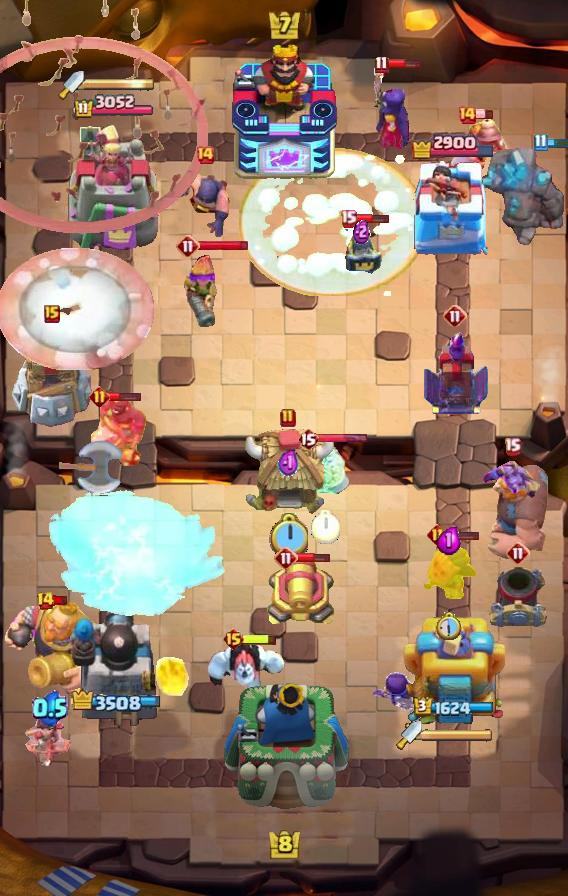axe: (367, 63, 413, 151)
balloon: (483, 460, 551, 562)
bandit: (449, 112, 513, 178)
bar: (67, 122, 161, 256), (401, 611, 505, 731)
bomb-tower: (181, 251, 223, 331)
cannoneer-tower: (478, 147, 568, 249)
electro-spirit: (32, 690, 68, 726), (437, 525, 461, 555), (277, 448, 298, 479), (353, 218, 371, 244)
elixir: (268, 513, 307, 558), (312, 510, 341, 544), (436, 611, 463, 641)
elixir-collector: (297, 442, 353, 502)
emote: (198, 240, 249, 253), (316, 432, 368, 443), (242, 634, 278, 647), (296, 552, 332, 564), (387, 58, 422, 70), (444, 529, 479, 541), (354, 213, 390, 224), (106, 390, 142, 401), (546, 137, 568, 149), (475, 108, 494, 119), (51, 595, 69, 606)
freeze: (82, 395, 148, 471)
giant-skeleton: (0, 598, 112, 702)
goblin-ball: (370, 669, 430, 725)
goblin-barrel: (420, 532, 478, 602)
ice-spirit-evolution-symbol: (421, 330, 489, 416)
king-tower: (219, 678, 349, 826), (230, 41, 338, 181)
king-tower-bar: (84, 77, 156, 91), (422, 728, 494, 742)
mega-knight: (44, 487, 228, 623)
monk: (179, 170, 231, 242)
musketeer: (487, 563, 549, 631)
phoenix-big: (239, 148, 427, 296)
prince: (241, 427, 335, 517)
princess: (339, 219, 383, 279)
queen-tower: (407, 158, 499, 256)
rage: (206, 640, 286, 694)
royal-delivery: (481, 461, 543, 499)
royal-giant: (59, 440, 125, 496)
royal-recruit: (264, 556, 336, 630)
selected: (68, 688, 159, 714), (410, 132, 496, 159), (73, 94, 155, 120), (414, 695, 495, 716)
skeleton-barrel: (0, 0, 208, 234)
skeleton-dragon: (24, 708, 76, 766)
text: (176, 234, 200, 258), (443, 304, 467, 328), (506, 541, 530, 565), (274, 546, 298, 570), (223, 627, 246, 651), (297, 427, 319, 451), (428, 523, 449, 545), (89, 385, 110, 406), (457, 105, 477, 125), (195, 145, 215, 165), (36, 591, 56, 611), (339, 209, 357, 228), (280, 408, 296, 428), (503, 437, 520, 455), (44, 305, 60, 323), (532, 133, 547, 151), (375, 55, 389, 74)
tower-bar: (69, 599, 159, 731)
valkyrie: (152, 651, 190, 699)
wall-breaker: (0, 248, 154, 370)
zappy: (9, 313, 94, 429)
